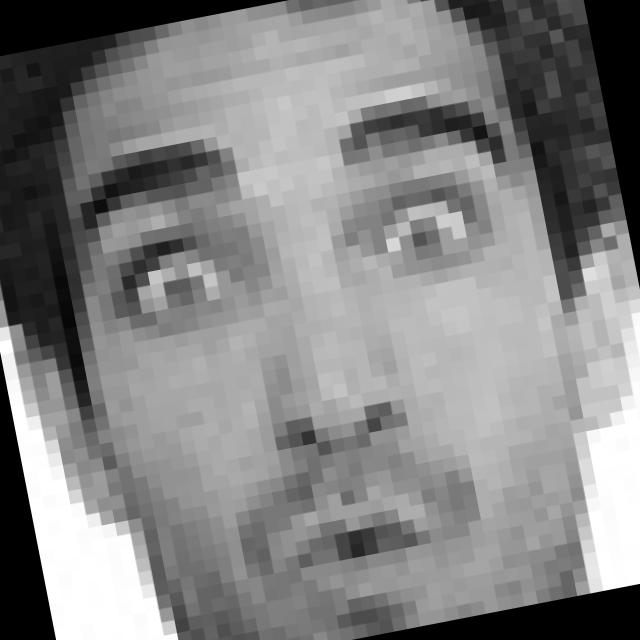surprise: (56, 63, 581, 640)
